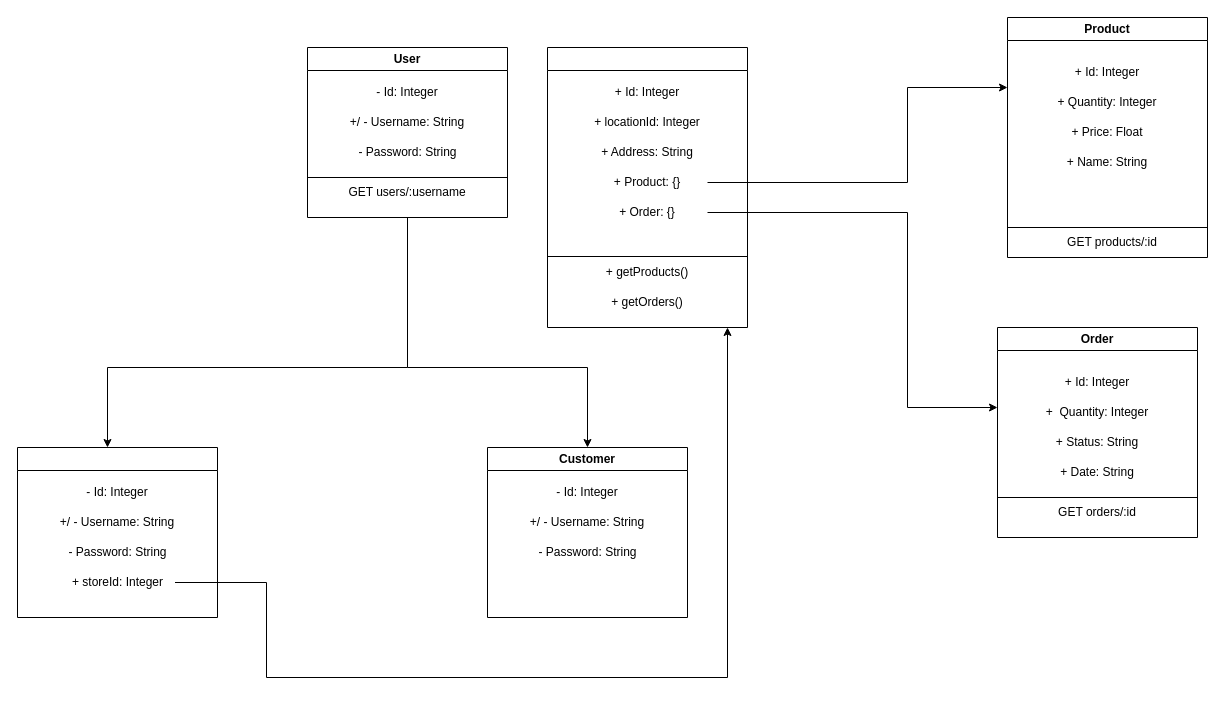
The diagram is 1226 pixels wide and 703 high, and some of its shapes have lost their labels. Each missing label, with the box of its shape:
Store: (546, 46, 748, 328)
Store Admin: (16, 446, 218, 618)
